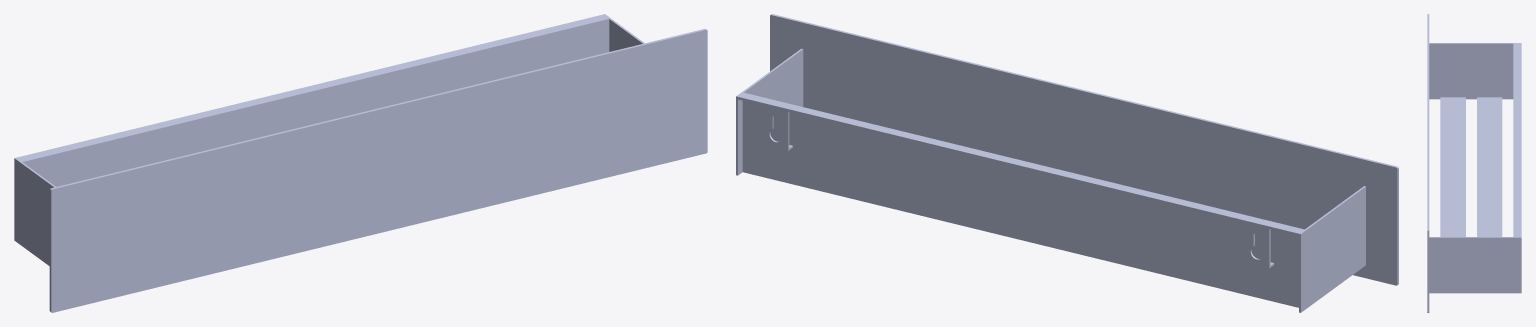
File: skyline-mono.672ac744e9.glb
3 views of the same model, side by side, from view 1: azimuth 30°, elevation 25°; view 2: azimuth 150°, elevation 25°; view 3: azimuth 270°, elevation 25° (orthographic). The views are drawn at different scales.
Parts seen in each view (by area): view 1: NAUO1; view 2: NAUO1; view 3: NAUO1.
Boxes of the visible parts, x1,y1,x2,y2 form: NAUO1: (14,14,707,312); NAUO1: (736,14,1398,312); NAUO1: (1427,14,1521,312).
Size of the model in its own units: 0.5 by 0.09 by 0.092.
